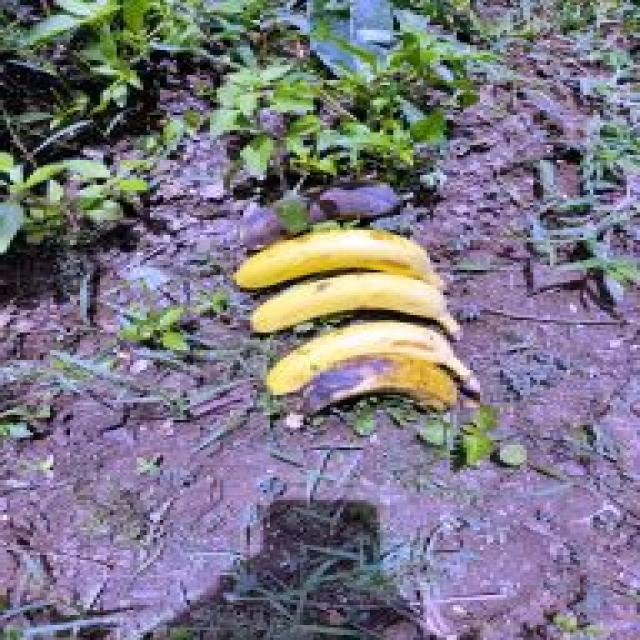Organik: (210, 215, 454, 287), (256, 312, 484, 384), (298, 340, 469, 430), (240, 268, 464, 334)
